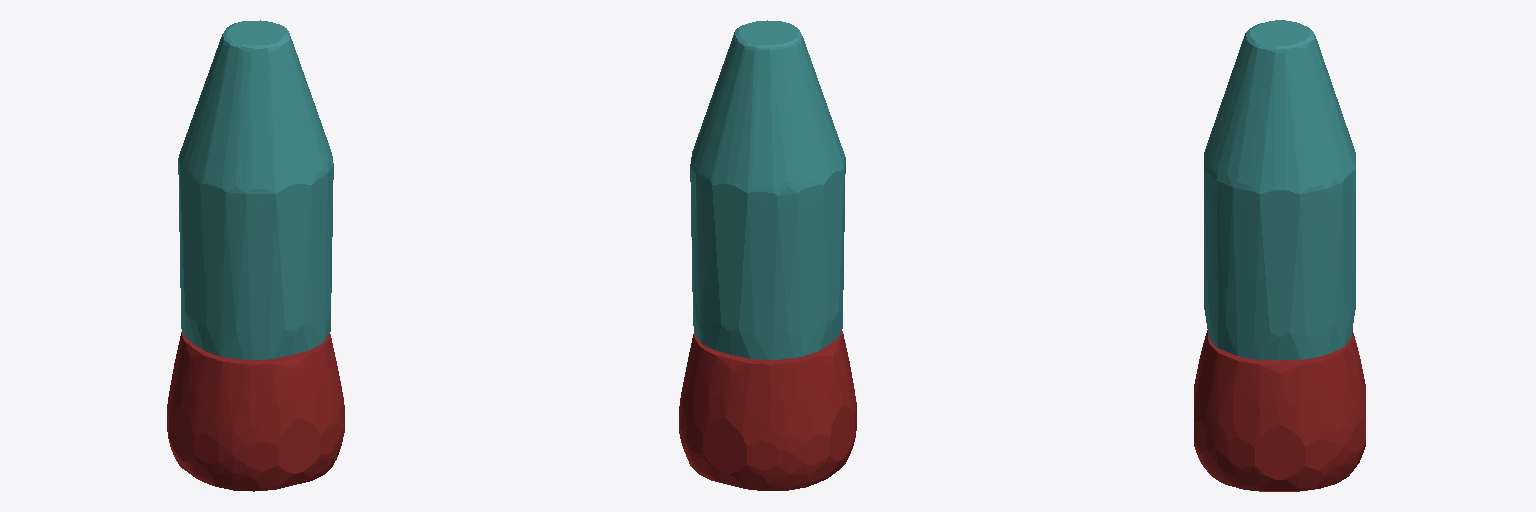
robot.urdf — root:
<robot name="root">
  <link name="bottle_body">
    <inertial>
      <origin xyz="0 0 0" rpy="0 0 0"/>
    </inertial>
    <mass value="1.00E-02"/>
    <visual>
      <origin xyz="0 0 0" rpy="0 0 0"/>
      <geometry>
        <mesh filename="core-bottle-f49d6c4b75f695c44d34bdc365023cf4-coacd_convex_piece_1.obj" scale="1.0000E-01 1.0000E-01 1.0000E-01"/>
      </geometry>
      <material name="">
        <color rgba="6.00E-01 2.00E-01 2.00E-01 1"/>
      </material>
    </visual>
    <collision>
      <origin xyz="0 0 0" rpy="0 0 0"/>
      <geometry>
        <mesh filename="core-bottle-f49d6c4b75f695c44d34bdc365023cf4-coacd_convex_piece_1.obj" scale="1.0000E-01 1.0000E-01 1.0000E-01"/>
      </geometry>
    </collision>
  </link>
  <link name="bottle_cap">
    <origin xyz="0 0 0.002" rpy="0 0 0"/>
    <mass value="1.00E-02"/>
    <visual>
      <origin xyz="0 0 0.002" rpy="0 0 0"/>
      <geometry>
        <mesh filename="core-bottle-f49d6c4b75f695c44d34bdc365023cf4-coacd_convex_piece_0.obj" scale="1.0000E-01 1.0000E-01 1.0000E-01"/>
      </geometry>
      <material name="">
        <color rgba="3.00E-01 6.00E-01 6.00E-01 1"/>
      </material>
    </visual>
    <collision>
      <origin xyz="0 0 0.002" rpy="0 0 0"/>
      <geometry>
        <mesh filename="core-bottle-f49d6c4b75f695c44d34bdc365023cf4-coacd_convex_piece_0.obj" scale="1.0000E-01 1.0000E-01 1.0000E-01"/>
      </geometry>
    </collision>
  </link>
  <joint name="bottle_cap_joint" type="revolute">
    <origin xyz="0 0 0" rpy="0 0 0"/>
    <parent link="bottle_body"/>
    <child link="bottle_cap"/>
    <axis xyz="0 0 1"/>
    <limit lower="0.00" upper="6.28"/>
    <dynamics damping="0.05"/>
  </joint>
</robot>

--- What the picture shows (computed from the rendered views, not written in the file) ---
Views: 3 orthographic renders of the robot side by side, from view 1: azimuth 30°, elevation 25°; view 2: azimuth 150°, elevation 25°; view 3: azimuth 270°, elevation 25°.
Model root with 2 links and 1 joints (1 revolute), rooted at bottle_body, posed all joints at 0.
Visible links, largest first — view 1: bottle_cap, bottle_body; view 2: bottle_cap, bottle_body; view 3: bottle_cap, bottle_body.
Boxes of the visible links, x1,y1,x2,y2 form: bottle_cap: (178,20,333,359); bottle_body: (167,332,344,491); bottle_cap: (690,20,845,359); bottle_body: (679,331,856,490); bottle_cap: (1204,20,1355,360); bottle_body: (1194,330,1365,491).
Size in the robot's own frame: 0.069 by 0.069 by 0.1887 metres.
2 mesh visuals loaded from 2 distinct referenced files (2 OBJ).